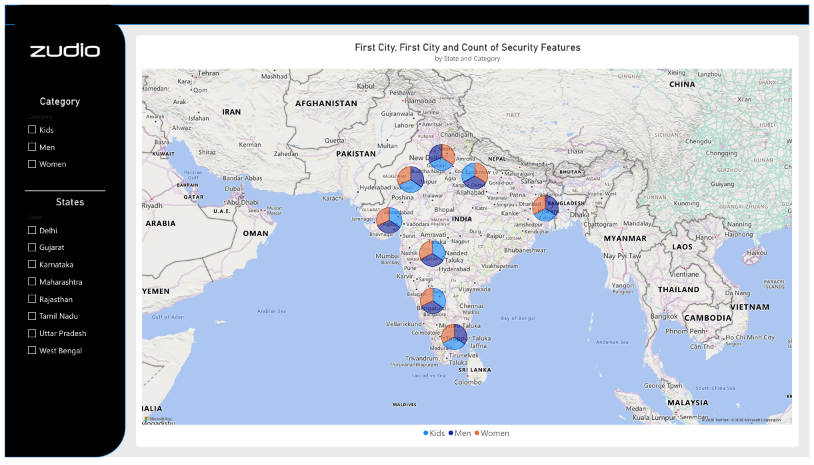

The page's visual inventory and layout, read from the dashboard file:
{"tool":"powerbi","page":{"name":"6","canvas":[1920,1080],"ordinal":5},"visuals":[{"type":"shape","box":[0,24,288,1056],"z":0},{"type":"shape","box":[0,0,1920,48],"z":1000},{"type":"image","box":[24,0,240,216],"z":2000},{"type":"shape","box":[48,408,192,72],"z":3000},{"type":"slicer","title":"Category","fields":{"Values":["Sales Data.Category"]},"box":[48,216,168,192],"z":4000},{"type":"slicer","title":"States","fields":{"Values":["Sales Data.State"]},"box":[48,456,216,408],"z":5000},{"type":"map","fields":{"Category":["Sales Data.State"],"Size":["CountNonNull(Sales Data.Security Features)"],"Series":["Sales Data.Category"],"Y":["Min(Sales Data.City)"],"X":["Min(Sales Data.City)"]},"box":[312,72,1584,984],"z":6000}]}

Visuals, with their boxes on the page's 1920x1080 design canvas (x1, y1, x2, y2). These are canvas units, not pixel positions in the 814x465 screenshot, which may show the page scaled, cropped or inside an application window:
shape: bbox(0, 24, 288, 1080)
shape: bbox(0, 0, 1920, 48)
image: bbox(24, 0, 264, 216)
shape: bbox(48, 408, 240, 480)
"Category" slicer: bbox(48, 216, 216, 408)
"States" slicer: bbox(48, 456, 264, 864)
map - Sales Data.State x CountNonNull(Sales Data.Security Features): bbox(312, 72, 1896, 1056)
